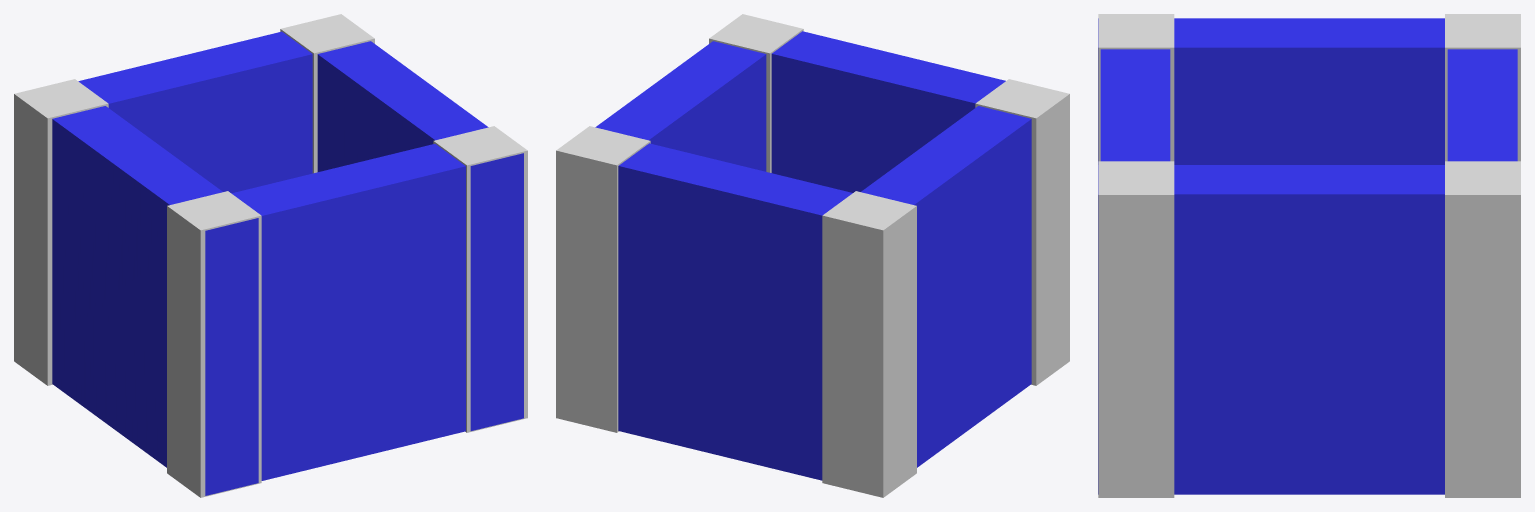
The model's file is ItemBox2.fbx.
3 views of the same model, side by side, from view 1: azimuth 30°, elevation 25°; view 2: azimuth 150°, elevation 25°; view 3: azimuth 270°, elevation 25° (orthographic). The views are drawn at different scales.
Parts seen in each view (by area): view 1: Box004, Box001, Box002, Box003, Box006, Box005, Box008, Box007; view 2: Box003, Box001, Box005, Box004, Box007, Box002, Box006, Box008; view 3: Box002, Box001, Box008, Box007, Box003, Box004, Box006, Box005.
Part boxes in pixels (<box>): Box004: <box>231,144,465,480</box>; Box001: <box>52,106,258,495</box>; Box002: <box>317,41,523,430</box>; Box003: <box>78,31,312,193</box>; Box006: <box>167,191,261,497</box>; Box005: <box>14,79,108,385</box>; Box008: <box>433,126,527,432</box>; Box007: <box>280,14,374,173</box>; Box003: <box>618,143,852,480</box>; Box001: <box>861,106,1031,467</box>; Box005: <box>822,191,916,497</box>; Box004: <box>771,31,1005,192</box>; Box007: <box>556,126,650,432</box>; Box002: <box>595,41,766,171</box>; Box006: <box>975,79,1069,385</box>; Box008: <box>709,14,803,172</box>; Box002: <box>1098,165,1444,494</box>; Box001: <box>1098,18,1444,164</box>; Box008: <box>1098,161,1174,497</box>; Box007: <box>1445,161,1520,497</box>; Box003: <box>1447,49,1517,161</box>; Box004: <box>1100,49,1170,161</box>; Box006: <box>1098,14,1174,161</box>; Box005: <box>1445,14,1520,161</box>.
Size of the model in its own units: 20.43 by 15.96 by 20.18.
